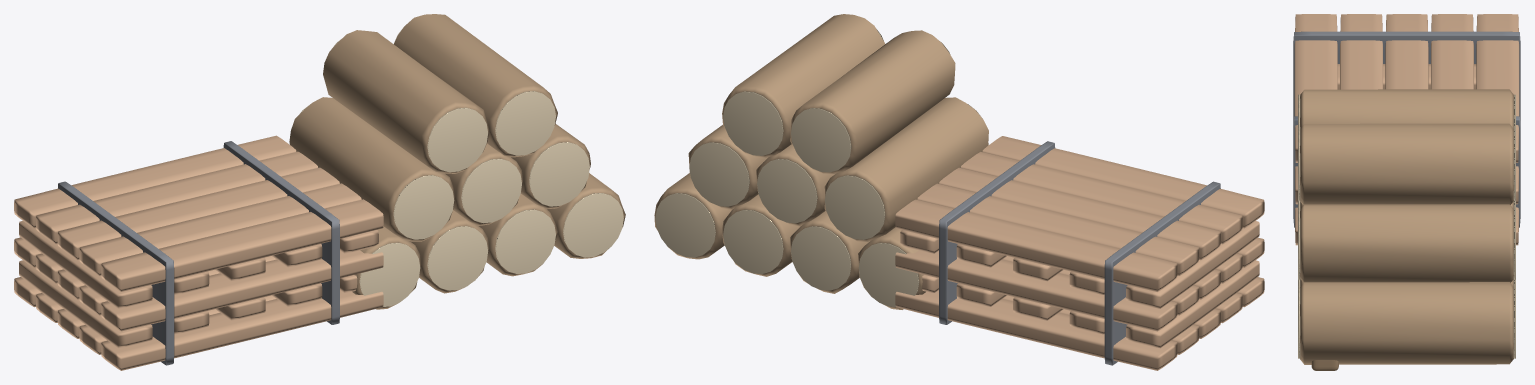
The model's file is LogJamLumber.glb.
3 views of the same model, side by side, from view 1: azimuth 30°, elevation 25°; view 2: azimuth 150°, elevation 25°; view 3: azimuth 270°, elevation 25° (orthographic). The views are drawn at different scales.
Parts seen in each view (by area): view 1: Planks, Logs, LogEnds, Straps; view 2: Planks, Logs, LogEnds, Straps; view 3: Logs, Planks, Straps, LogEnds, Chocks.
Part boxes in pixels (x1,y1,x2,y2): Planks: [14, 135, 383, 370]; Logs: [289, 14, 625, 309]; LogEnds: [300, 26, 623, 306]; Straps: [58, 141, 339, 365]; Planks: [895, 136, 1264, 370]; Logs: [654, 14, 988, 309]; LogEnds: [655, 29, 982, 306]; Straps: [939, 141, 1220, 365]; Logs: [1300, 89, 1513, 364]; Planks: [1294, 14, 1519, 245]; Straps: [1293, 31, 1520, 227]; LogEnds: [1298, 94, 1515, 358]; Chocks: [1311, 360, 1338, 370].
Size of the model in its own units: 13.52 by 4.82 by 5.
